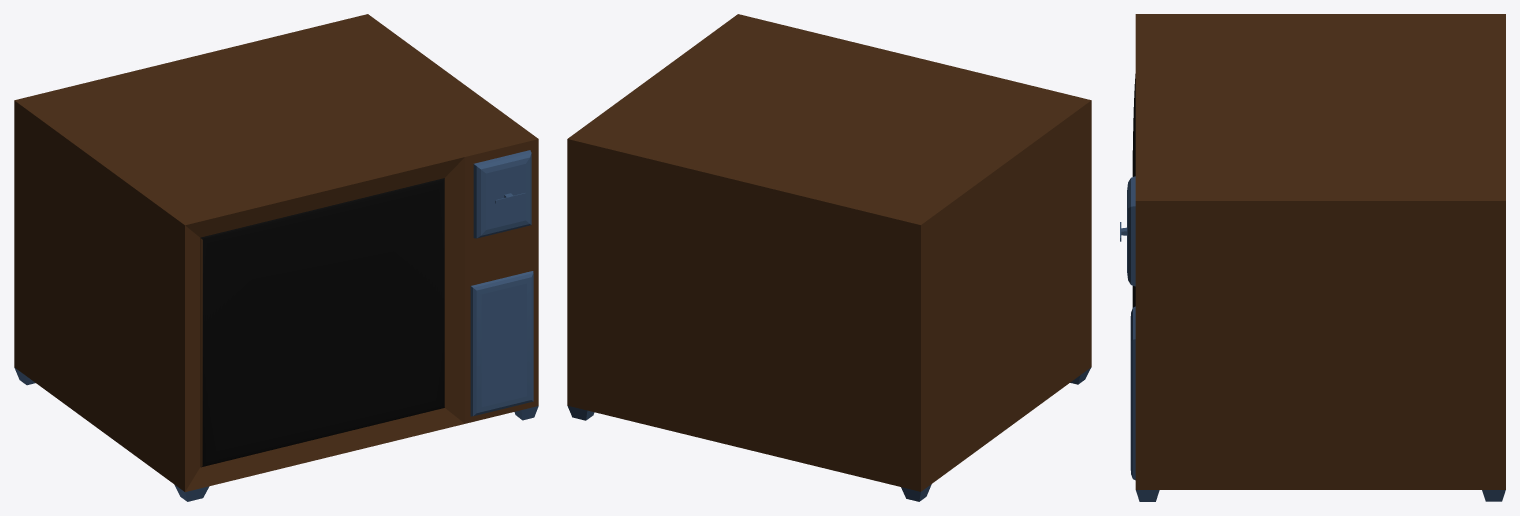
Rendered from OldTV.FBX.
3 views of the same model, side by side, from view 1: azimuth 30°, elevation 25°; view 2: azimuth 150°, elevation 25°; view 3: azimuth 270°, elevation 25° (orthographic). The views are drawn at different scales.
Parts seen in each view (by area): view 1: OldTV; view 2: OldTV; view 3: OldTV.
Boxes of the visible parts, x1,y1,x2,y2 form: OldTV: [14, 14, 538, 501]; OldTV: [567, 14, 1091, 501]; OldTV: [1120, 14, 1505, 501].
Bounding box in the file's own units: 71.18 × 53.68 × 62.04.
